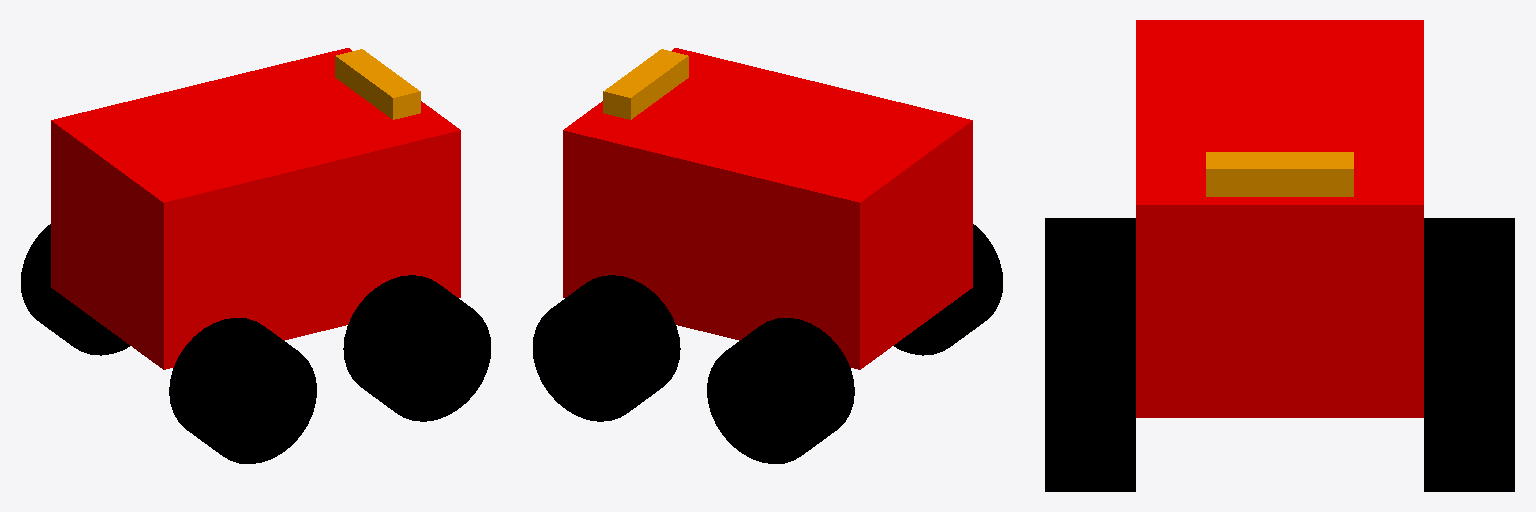
The robot description file, URDF, robot "mars_robot":
<?xml version="1.0" ?>
<!-- =================================================================================== -->
<!-- |    This document was autogenerated by xacro from mars_robot.urdf.xacro          | -->
<!-- |    EDITING THIS FILE BY HAND IS NOT RECOMMENDED                                 | -->
<!-- =================================================================================== -->
<robot name="mars_robot">
  <gazebo>
    <plugin filename="libgazebo_ros_control.so" name="gazebo_ros_control">
      <robotNamespace>/mars_robot</robotNamespace>
      <robotSimType>gazebo_ros_control/DefaultRobotHWSim</robotSimType>
    </plugin>
  </gazebo>
  <gazebo reference="robot_base_link">
    <material>Gazebo/Red</material>
  </gazebo>
  <gazebo reference="front_left_wheel_link">
    <mu1>0.2</mu1>
    <mu2>0.2</mu2>
    <material>Gazebo/Black</material>
  </gazebo>
  <gazebo reference="front_right_wheel_link">
    <mu1>0.2</mu1>
    <mu2>0.2</mu2>
    <material>Gazebo/Black</material>
  </gazebo>
  <gazebo reference="rear_left_wheel_link">
    <mu1>0.2</mu1>
    <mu2>0.2</mu2>
    <material>Gazebo/Black</material>
  </gazebo>
  <gazebo reference="rear_right_wheel_link">
    <mu1>0.2</mu1>
    <mu2>0.2</mu2>
    <material>Gazebo/Black</material>
  </gazebo>
  <gazebo reference="camera_link">
    <mu1>0.2</mu1>
    <mu2>0.2</mu2>
    <material>Gazebo/Orange</material>
  </gazebo>
  <gazebo reference="imu_link">
    <mu1>0.2</mu1>
    <mu2>0.2</mu2>
    <material>Gazebo/Black</material>
  </gazebo>
  <gazebo reference="camera_link">
    <sensor name="camera1" type="camera">
      <update_rate>30.0</update_rate>
      <camera name="head">
        <horizontal_fov>1.3962634</horizontal_fov>
        <image>
          <width>800</width>
          <height>800</height>
          <format>R8G8B8</format>
        </image>
        <clip>
          <near>0.02</near>
          <far>300</far>
        </clip>
        <noise>
          <type>gaussian</type>
          <!-- Noise is sampled independently per pixel on each frame.
               That pixel's noise value is added to each of its color
               channels, which at that point lie in the range [0,1]. -->
          <mean>0.0</mean>
          <stddev>0.007</stddev>
        </noise>
      </camera>
      <plugin filename="libgazebo_ros_camera.so" name="camera_controller">
        <alwaysOn>true</alwaysOn>
        <updateRate>0.0</updateRate>
        <cameraName>mars_robot/camera1</cameraName>
        <imageTopicName>image_raw</imageTopicName>
        <cameraInfoTopicName>camera_info</cameraInfoTopicName>
        <frameName>camera_link_optical</frameName>
        <!-- setting hackBaseline to anything but 0.0 will cause a misalignment
            between the gazebo sensor image and the frame it is supposed to
            be attached to -->
        <hackBaseline>0.0</hackBaseline>
        <distortionK1>0.0</distortionK1>
        <distortionK2>0.0</distortionK2>
        <distortionK3>0.0</distortionK3>
        <distortionT1>0.0</distortionT1>
        <distortionT2>0.0</distortionT2>
        <CxPrime>0</CxPrime>
        <Cx>0.0</Cx>
        <Cy>0.0</Cy>
        <focalLength>0.0</focalLength>
      </plugin>
    </sensor>
  </gazebo>
  <gazebo reference="imu_link">
    <gravity>true</gravity>
    <sensor name="imu_sensor" type="imu">
      <always_on>true</always_on>
      <update_rate>100</update_rate>
      <visualize>true</visualize>
      <topic>__default_topic__</topic>
      <plugin filename="libgazebo_ros_imu_sensor.so" name="imu_plugin">
        <topicName>imu</topicName>
        <bodyName>imu_link</bodyName>
        <updateRateHZ>10.0</updateRateHZ>
        <gaussianNoise>0.0</gaussianNoise>
        <xyzOffset>0 0 0</xyzOffset>
        <rpyOffset>0 0 0</rpyOffset>
        <frameName>imu_link</frameName>
        <initialOrientationAsReference>false</initialOrientationAsReference>
      </plugin>
      <pose>0 0 0 0 0 0</pose>
    </sensor>
  </gazebo>
  <!-- <xacro:include filename="mars_robot.ros2_control.xacro" />  -->
  <ros2_control name="mars_robot_control" type="system">
    <hardware>
      <plugin>test_system</plugin>
      <!--  <xacro:if value="${use_fake_hardware}">
          <plugin>fake_components/GenericSystem</plugin>
          <param name="fake_sensor_commands">${fake_sensor_commands}</param>
          <param name="state_following_offset">0.0</param>
        </xacro:if>
        <xacro:unless value="${use_fake_hardware}">
          <plugin>ros2_control_demo_hardware/DiffBotSystemHardware</plugin>
          <param name="example_param_hw_start_duration_sec">2.0</param>
          <param name="example_param_hw_stop_duration_sec">3.0</param>
        </xacro:unless> -->
    </hardware>

    <joint name="front_left_wheel_joint">
      <command_interface name="velocity">
        <param name="min">-1</param>
        <param name="max">1</param>
      </command_interface>
      <state_interface name="position"/>
      <state_interface name="velocity"/>
    </joint>
    <joint name="front_right_wheel_joint">
      <command_interface name="velocity">
        <param name="min">-1</param>
        <param name="max">1</param>
      </command_interface>
      <state_interface name="position"/>
      <state_interface name="velocity"/>
    </joint>
    <joint name="rear_left_wheel_joint">
      <command_interface name="velocity">
        <param name="min">-1</param>
        <param name="max">1</param>
      </command_interface>
      <state_interface name="position"/>
      <state_interface name="velocity"/>
    </joint>
    <joint name="rear_right_wheel_joint">
      <command_interface name="velocity">
        <param name="min">-1</param>
        <param name="max">1</param>
      </command_interface>
      <state_interface name="position"/>
      <state_interface name="velocity"/>
    </joint>
  </ros2_control>
  <!-- This first link, "world" is empty-->
  <link name="mars_robot_footprint"/>
  <link name="robot_base_link">
    <visual>
      <origin rpy="0.0 0.0 0.0" xyz="0 0 0.1115"/>
      <geometry>
        <!-- <mesh filename="file:///workspaces/2022-TUB-MARS-autopilot/src/mars_robot/meshes/Robot_base.stl"
                        scale="0.001 0.001 0.001"/>            -->
        <box size="0.326 0.2142 0.175"/>
      </geometry>
      <material name="red">
        <color rgba="1.0 0.0 0.0 1.0"/>
      </material>
    </visual>
    <inertial>
      <mass value="4.42"/>
      <origin rpy="0 0 0" xyz="0 0 0"/>
      <inertia ixx="0.03295736167" ixy="0.0" ixz="0.0" iyy="0.05523416167" iyz="0.0" izz="0.05601318667"/>
    </inertial>
    <collision>
      <origin rpy="0 0 0" xyz="0 0 0.1115"/>
      <geometry>
        <box size="0.326 0.2142 0.300"/>
      </geometry>
    </collision>
  </link>
  <!-- Fixed joint from "world" to "base"-->
  <joint name="base_joint" type="fixed">
    <preserveFixedJoint>true</preserveFixedJoint>
    <origin rpy="0 0 0" xyz="0.0 0 0.0615"/>
    <parent link="mars_robot_footprint"/>
    <child link="robot_base_link"/>
  </joint>
  <link name="front_left_wheel_link">
    <visual>
      <origin rpy="0 0 0" xyz="0 0 0"/>
      <geometry>
        <!-- <mesh filename="file:///workspaces/2022-TUB-MARS-autopilot/src/mars_robot/meshes/Wheel_one.stl" 
                        scale="0.001 0.001 0.001"/> -->
        <cylinder length="0.068" radius="0.0615"/>
      </geometry>
      <material name="color_wheel">
        <color rgba="0.0 0.0 0.0 1.0"/>
      </material>
    </visual>
    <collision>
      <origin rpy="0 0 0" xyz="0 0 0"/>
      <geometry>
        <cylinder length="0.068" radius="0.0615"/>
      </geometry>
    </collision>
    <inertial>
      <mass value="0.176"/>
      <inertia ixx="2.87466667e-04" ixy="0.0" ixz="0.0" iyy="2.87466667e-04" iyz="0.0" izz="3.0184e-05"/>
    </inertial>
  </link>
  <joint name="front_left_wheel_joint" type="continuous">
    <preserveFixedJoint>true</preserveFixedJoint>
    <parent link="robot_base_link"/>
    <child link="front_left_wheel_link"/>
    <origin rpy="1.5708 0 0" xyz="0.0955 0.141 0"/>
    <implicitSpringDamper>1</implicitSpringDamper>
  </joint>
  <link name="front_right_wheel_link">
    <visual>
      <origin rpy="0 0 0" xyz="0 0 0"/>
      <geometry>
        <!-- <mesh filename="file:///workspaces/2022-TUB-MARS-autopilot/src/mars_robot/meshes/Wheel_two.stl" 
                        scale="0.001 0.001 0.001"/> -->
        <cylinder length="0.068" radius="0.0615"/>
      </geometry>
      <material name="color_wheel">
        <color rgba="0.0 0.0 0.0 1.0"/>
      </material>
    </visual>
    <collision>
      <origin rpy="0 0 0" xyz="0 0 0"/>
      <geometry>
        <cylinder length="0.068" radius="0.0615"/>
      </geometry>
    </collision>
    <inertial>
      <mass value="0.176"/>
      <inertia ixx="2.87466667e-04" ixy="0.0" ixz="0.0" iyy="2.87466667e-04" iyz="0.0" izz="3.0184e-05"/>
    </inertial>
  </link>
  <joint name="front_right_wheel_joint" type="continuous">
    <preserveFixedJoint>true</preserveFixedJoint>
    <parent link="robot_base_link"/>
    <child link="front_right_wheel_link"/>
    <origin rpy="1.5708 0 0" xyz="0.0955 -0.141 0"/>
    <implicitSpringDamper>1</implicitSpringDamper>
  </joint>
  <link name="rear_left_wheel_link">
    <visual>
      <origin rpy="0 0 0" xyz="0 0 0"/>
      <geometry>
        <!-- <mesh filename="file:///workspaces/2022-TUB-MARS-autopilot/src/mars_robot/meshes/Wheel_three.stl" 
                        scale="0.001 0.001 0.001"/> -->
        <cylinder length="0.068" radius="0.0615"/>
      </geometry>
      <material name="color_wheel">
        <color rgba="0.0 0.0 0.0 1.0"/>
      </material>
    </visual>
    <collision>
      <origin rpy="0 0 0" xyz="0 0 0"/>
      <geometry>
        <cylinder length="0.068" radius="0.0615"/>
      </geometry>
    </collision>
    <inertial>
      <mass value="0.176"/>
      <inertia ixx="2.87466667e-04" ixy="0.0" ixz="0.0" iyy="2.87466667e-04" iyz="0.0" izz="3.0184e-05"/>
    </inertial>
  </link>
  <joint name="rear_left_wheel_joint" type="continuous">
    <preserveFixedJoint>true</preserveFixedJoint>
    <parent link="robot_base_link"/>
    <child link="rear_left_wheel_link"/>
    <origin rpy="1.5708 0 0" xyz="-0.0955 0.141 0"/>
    <implicitSpringDamper>1</implicitSpringDamper>
  </joint>
  <link name="rear_right_wheel_link">
    <visual>
      <origin rpy="0 0 0" xyz="0 0 0"/>
      <geometry>
        <!-- <mesh filename="file:///workspaces/2022-TUB-MARS-autopilot/src/mars_robot/meshes/Wheel_four.stl" 
                        scale="0.001 0.001 0.001"/> -->
        <cylinder length="0.068" radius="0.0615"/>
      </geometry>
      <material name="color_wheel">
        <color rgba="0.0 0.0 0.0 1.0"/>
      </material>
    </visual>
    <collision>
      <origin rpy="0 0 0" xyz="0 0 0"/>
      <geometry>
        <cylinder length="0.068" radius="0.0615"/>
      </geometry>
    </collision>
    <inertial>
      <mass value="0.176"/>
      <inertia ixx="2.87466667e-04" ixy="0.0" ixz="0.0" iyy="2.87466667e-04" iyz="0.0" izz="3.0184e-05"/>
    </inertial>
  </link>
  <joint name="rear_right_wheel_joint" type="continuous">
    <preserveFixedJoint>true</preserveFixedJoint>
    <parent link="robot_base_link"/>
    <child link="rear_right_wheel_link"/>
    <origin rpy="1.5708 0 0" xyz="-0.0955 -0.141 0"/>
    <implicitSpringDamper>1</implicitSpringDamper>
  </joint>
  <!--IMU-->
  <link name="imu_link">
    <inertial>
      <mass value="0.010"/>
      <origin rpy="0 0 0" xyz="0 0 0"/>
      <inertia ixx="1e-09" ixy="0.0" ixz="0.0" iyy="1e-09" iyz="0.0" izz="1e-09"/>
    </inertial>
  </link>
  <joint name="imu_joint" type="fixed">
    <preserveFixedJoint>true</preserveFixedJoint>
    <parent link="robot_base_link"/>
    <child link="imu_link"/>
    <origin rpy="0 0 0" xyz="0.0495 0.01 0.0665"/>
  </joint>
  <!--CAMERA-->
  <link name="camera_link">
    <visual>
      <geometry>
        <box size="0.03 0.11 0.035"/>
      </geometry>
      <material name="color_cam">
        <color rgba="1.0 0.65 0.0 1.0"/>
      </material>
    </visual>
  </link>
  <joint name="camera_joint" type="fixed">
    <preserveFixedJoint>true</preserveFixedJoint>
    <origin rpy="0 0 0" xyz="0.1335 0 0.2045"/>
    <parent link="robot_base_link"/>
    <child link="camera_link"/>
  </joint>
  <!-- generate an optical frame http://www.ros.org/reps/rep-0103.html#suffix-frames
      so that ros and opencv can operate on the camera frame correctly -->
  <joint name="camera_optical_joint" type="fixed">
    <preserveFixedJoint>true</preserveFixedJoint>
    <!-- these values have to be these values otherwise the gazebo camera image
        won't be aligned properly with the frame it is supposedly originating from -->
    <origin rpy="-1.5707963267948966 0 -1.5707963267948966" xyz="0 0 0"/>
    <parent link="camera_link"/>
    <child link="camera_link_optical"/>
  </joint>
  <link name="camera_link_optical"/>
</robot>

--- Facts derived from the render (not from the file) ---
Views: 3 orthographic renders of the robot side by side, from view 1: azimuth 30°, elevation 25°; view 2: azimuth 150°, elevation 25°; view 3: azimuth 270°, elevation 25°.
Robot: mars_robot — 9 links, 8 joints (4 continuous, 4 fixed); root link mars_robot_footprint; default pose: all joints at 0.
Visible links, largest first — view 1: robot_base_link, front_right_wheel_link, rear_right_wheel_link, rear_left_wheel_link, camera_link; view 2: robot_base_link, front_left_wheel_link, rear_left_wheel_link, rear_right_wheel_link, camera_link; view 3: robot_base_link, front_left_wheel_link, front_right_wheel_link, rear_left_wheel_link, rear_right_wheel_link, camera_link.
Link boxes in pixels (x1=…): robot_base_link: x1=51, y1=48, x2=460, y2=369; front_right_wheel_link: x1=343, y1=275, x2=490, y2=421; rear_right_wheel_link: x1=169, y1=318, x2=316, y2=463; rear_left_wheel_link: x1=21, y1=224, x2=129, y2=355; camera_link: x1=335, y1=49, x2=420, y2=119; robot_base_link: x1=563, y1=48, x2=972, y2=369; front_left_wheel_link: x1=533, y1=275, x2=680, y2=421; rear_left_wheel_link: x1=707, y1=318, x2=854, y2=463; rear_right_wheel_link: x1=894, y1=224, x2=1002, y2=355; camera_link: x1=603, y1=49, x2=688, y2=119; robot_base_link: x1=1136, y1=20, x2=1423, y2=417; front_left_wheel_link: x1=1424, y1=327, x2=1514, y2=491; front_right_wheel_link: x1=1045, y1=327, x2=1135, y2=491; rear_left_wheel_link: x1=1424, y1=218, x2=1514, y2=326; rear_right_wheel_link: x1=1045, y1=218, x2=1135, y2=326; camera_link: x1=1206, y1=152, x2=1353, y2=196.
Size in the robot's own frame: 0.326 by 0.35 by 0.2835 metres.
Geometry: primitives only (box / cylinder / sphere), no mesh files.
